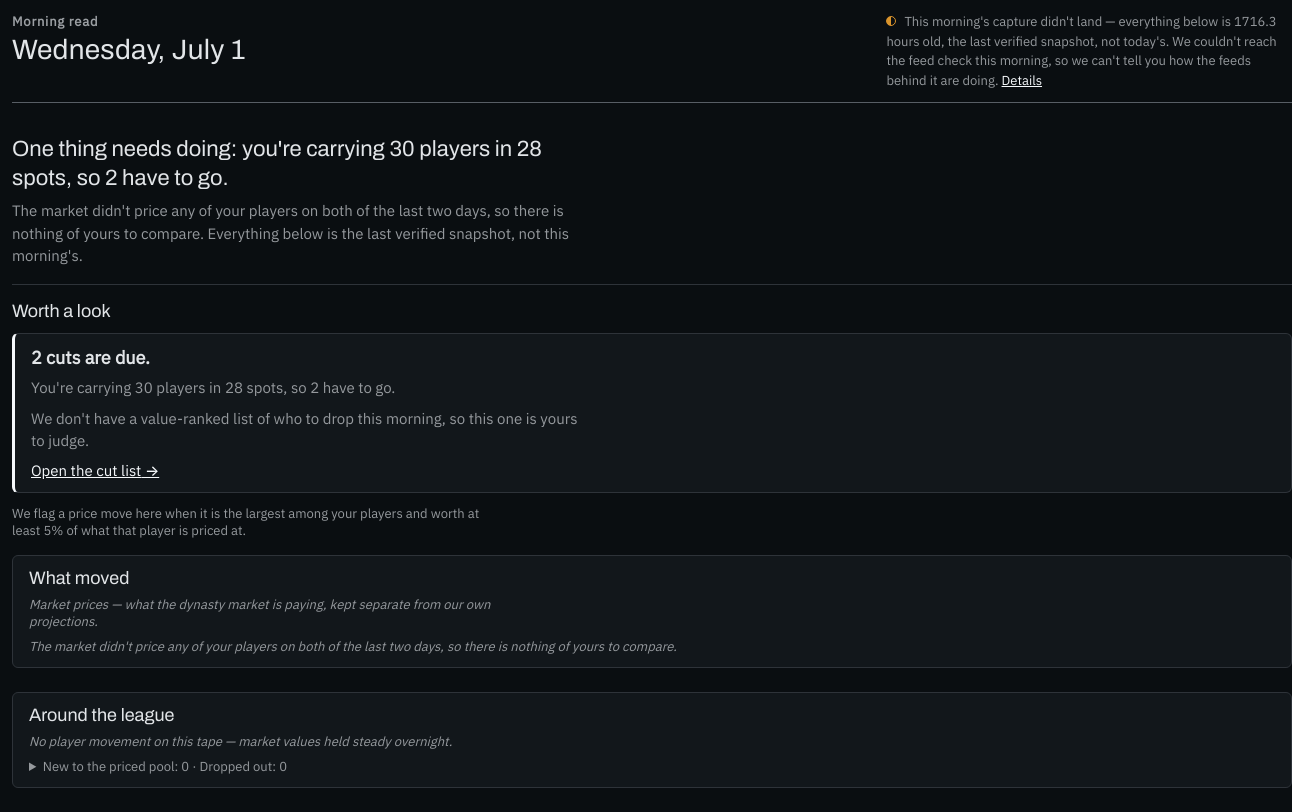
DailyWhatChanged › renders honest empty and quiet states without manufacturing signal
Expected: the text "market values held steady overnight" is shown, top-left (29, 733), bottom-right (452, 750)
Expected: the text "market didn't price any of your players on both of the last two days" is shown, top-left (12, 201), bottom-right (569, 265)
Click the button with test id "wc-health-sheet-toggle" at (1022, 80), box top-left (1002, 70), bottom-right (1042, 90)
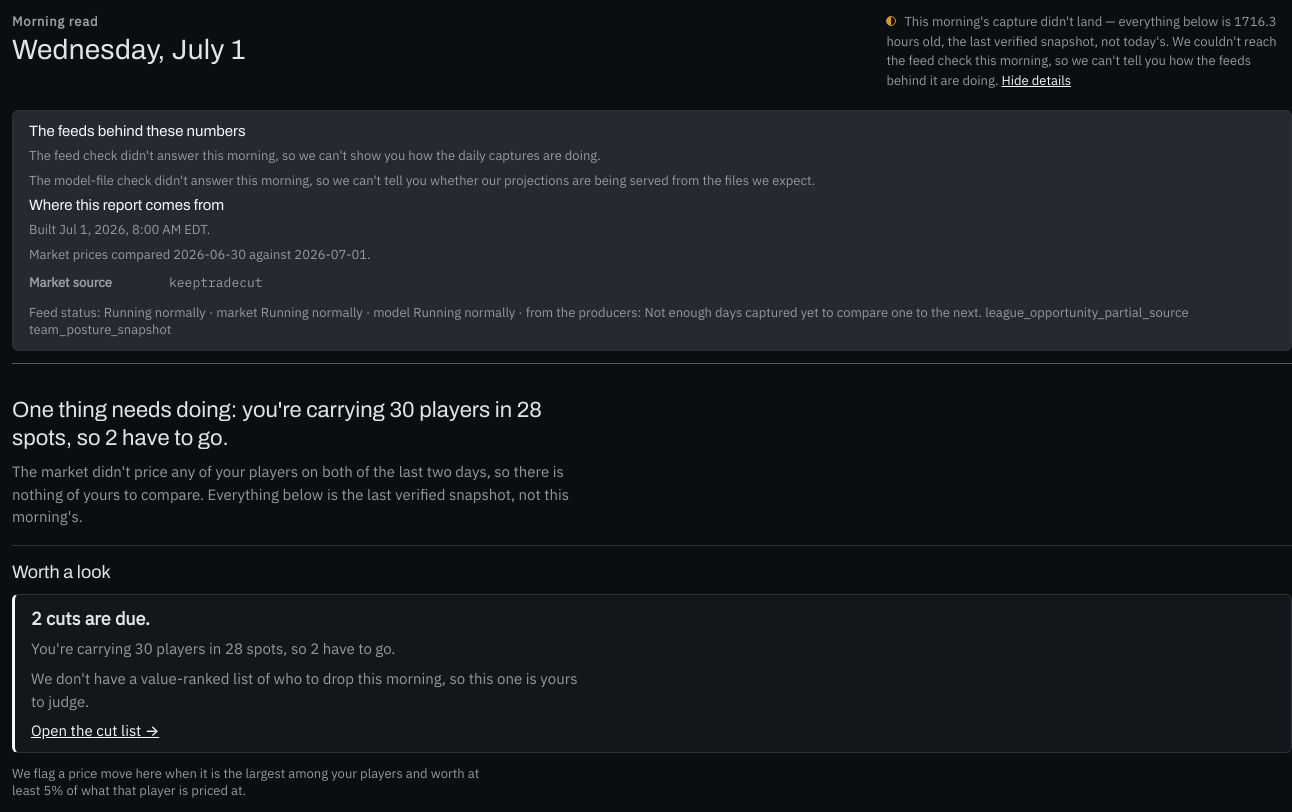
Result: the text with test id "wc-provenance" shows "Not enough days captured yet to compare one to the next." at top-left (29, 304), bottom-right (1189, 338)
